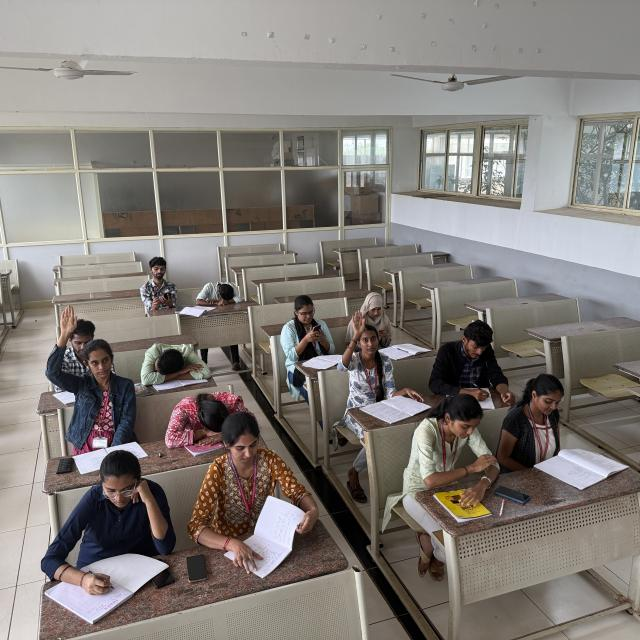Hand Rising: (43, 303, 135, 439), (346, 310, 392, 404)
Reading: (513, 331, 633, 491), (215, 408, 316, 552)
Sleeping: (122, 326, 225, 386), (159, 393, 255, 449), (190, 264, 255, 311)
Using Phone: (282, 282, 338, 363), (342, 278, 404, 343), (142, 240, 189, 316)
Writing: (63, 455, 154, 619), (414, 318, 538, 408)
